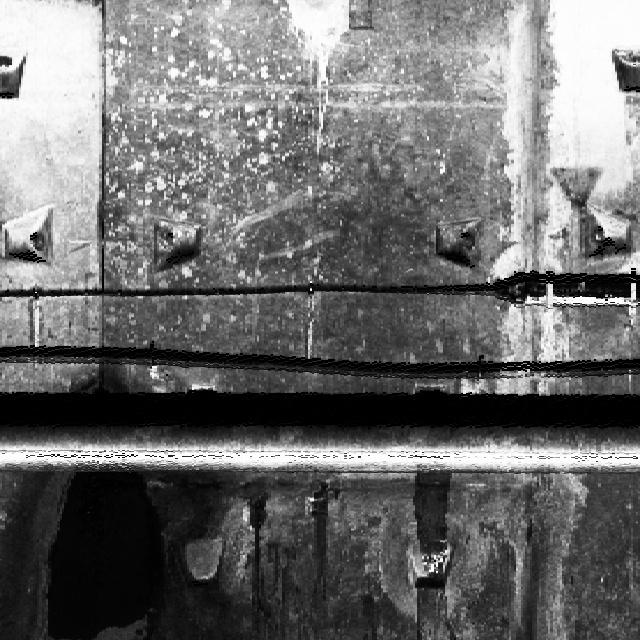leakage: (4, 452, 230, 639), (410, 459, 456, 639), (300, 475, 341, 639), (238, 486, 280, 639)
